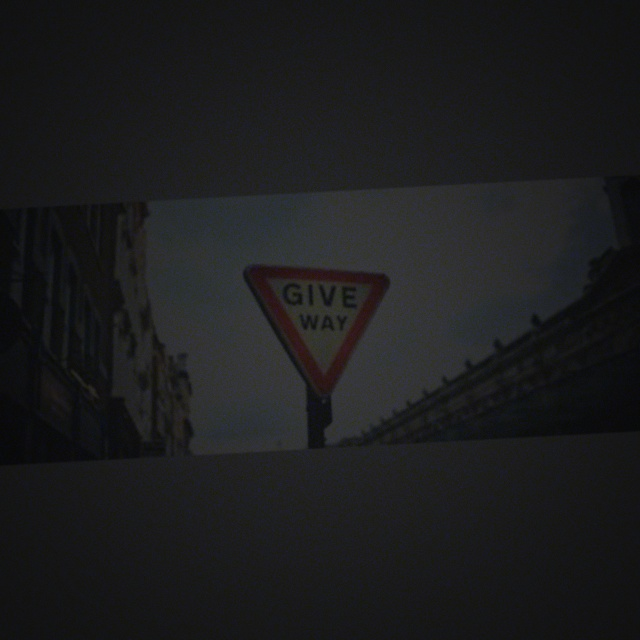Give_Way: (254, 256, 394, 398)
